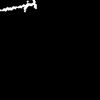double_crochet: (0, 0, 36, 11)
